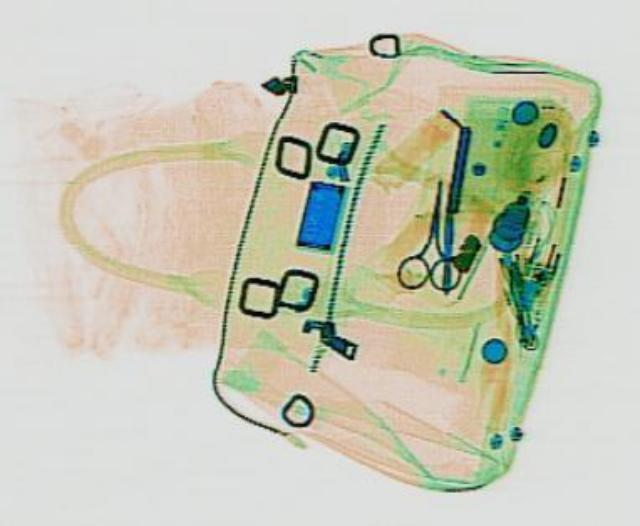Scissors: (394, 175, 466, 287)
